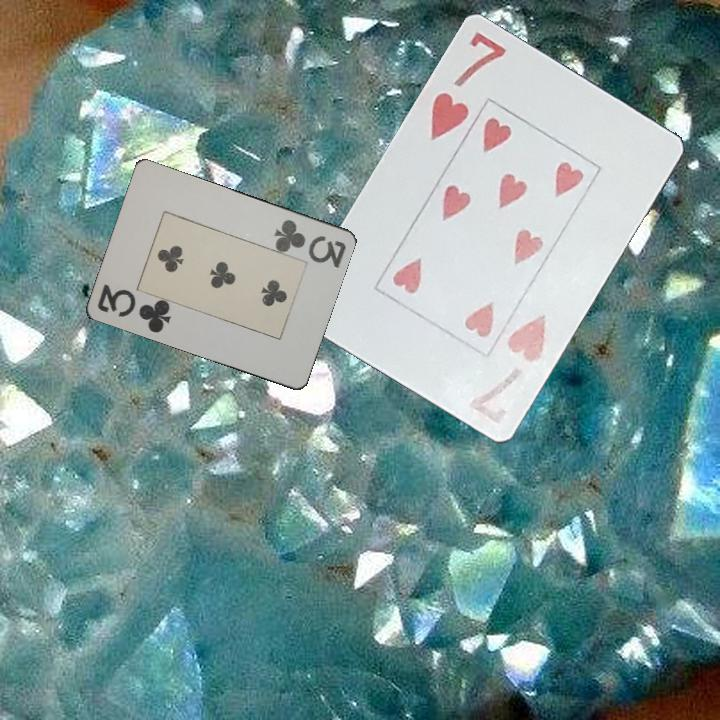3c: (93, 280, 174, 336), (269, 216, 349, 271)
7h: (465, 311, 550, 428), (427, 29, 510, 144)
